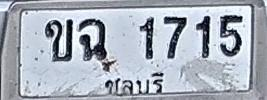1: (139, 16, 154, 60), (195, 15, 210, 58)
5: (220, 14, 242, 57)
7: (163, 16, 187, 59)
A02: (44, 19, 73, 62)
A09: (78, 18, 110, 62)
CBI: (102, 68, 167, 97)
